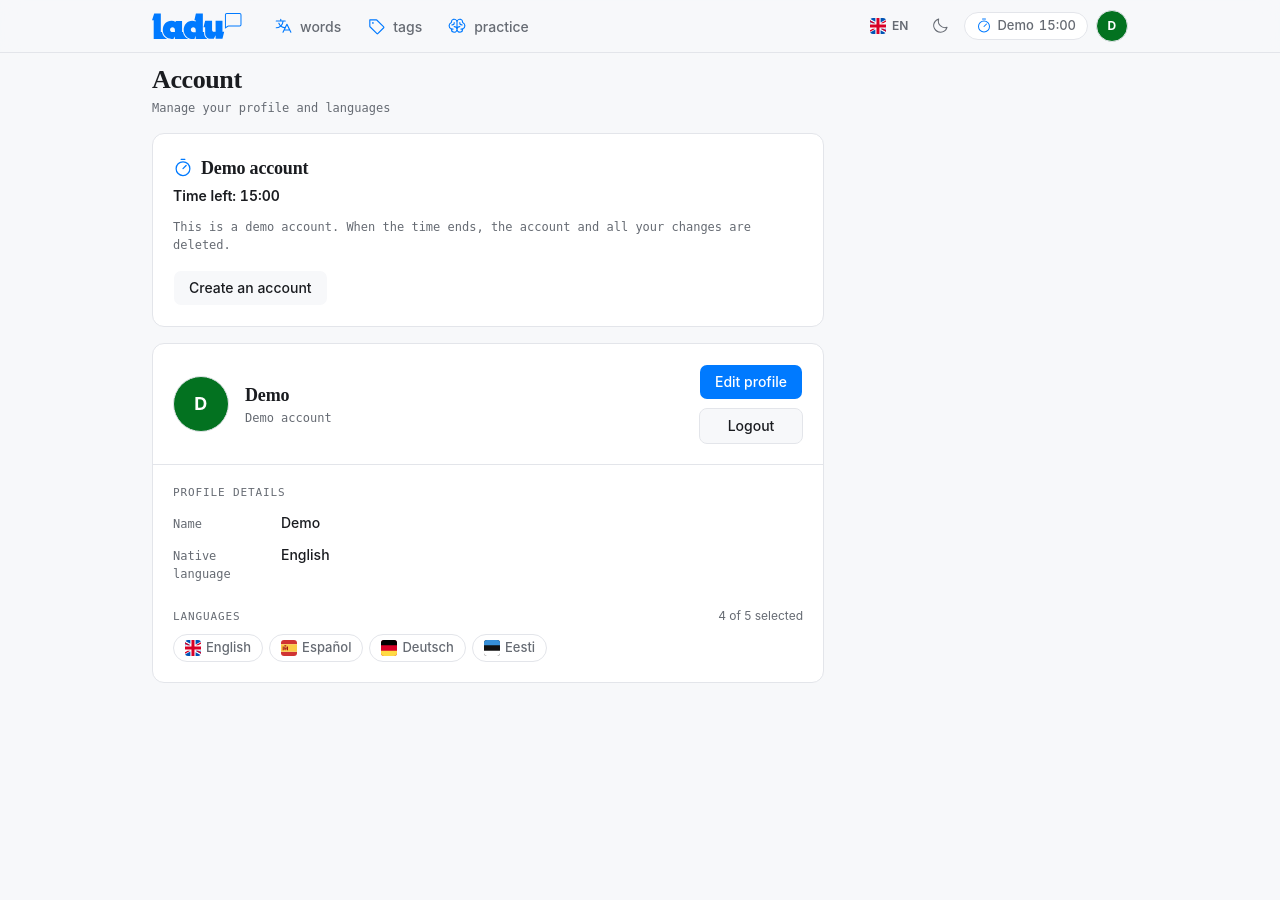
Scenario: the Account page of a demo › in the edit form, replaces name, username, email and sign-in methods with one line
Step 1. Click the button "Edit profile" → {"x": 751, "y": 382}, box top-left (699, 364), bottom-right (803, 400)
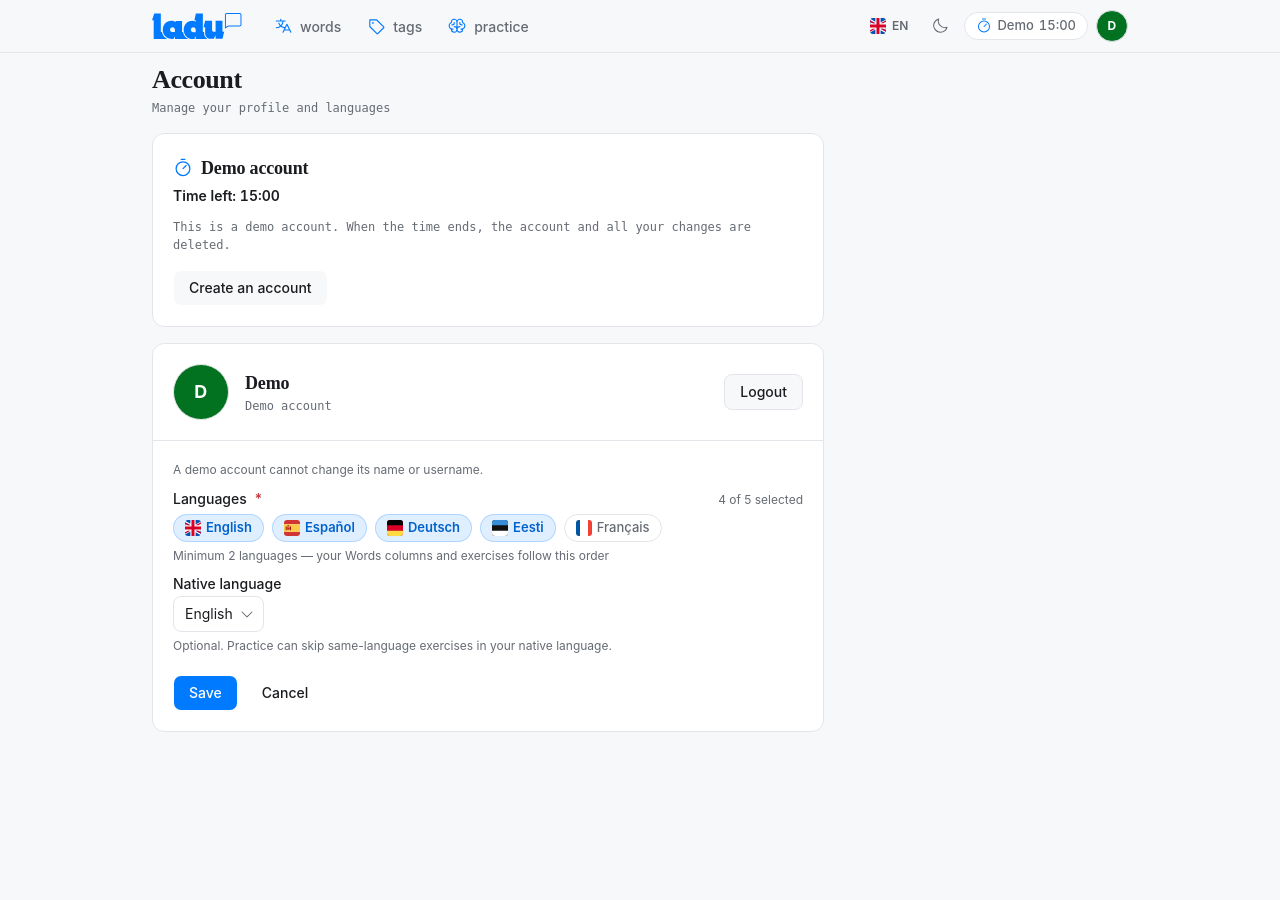
Expected: the text "A demo account cannot change its name or username." is shown, top-left (173, 462), bottom-right (483, 477)
